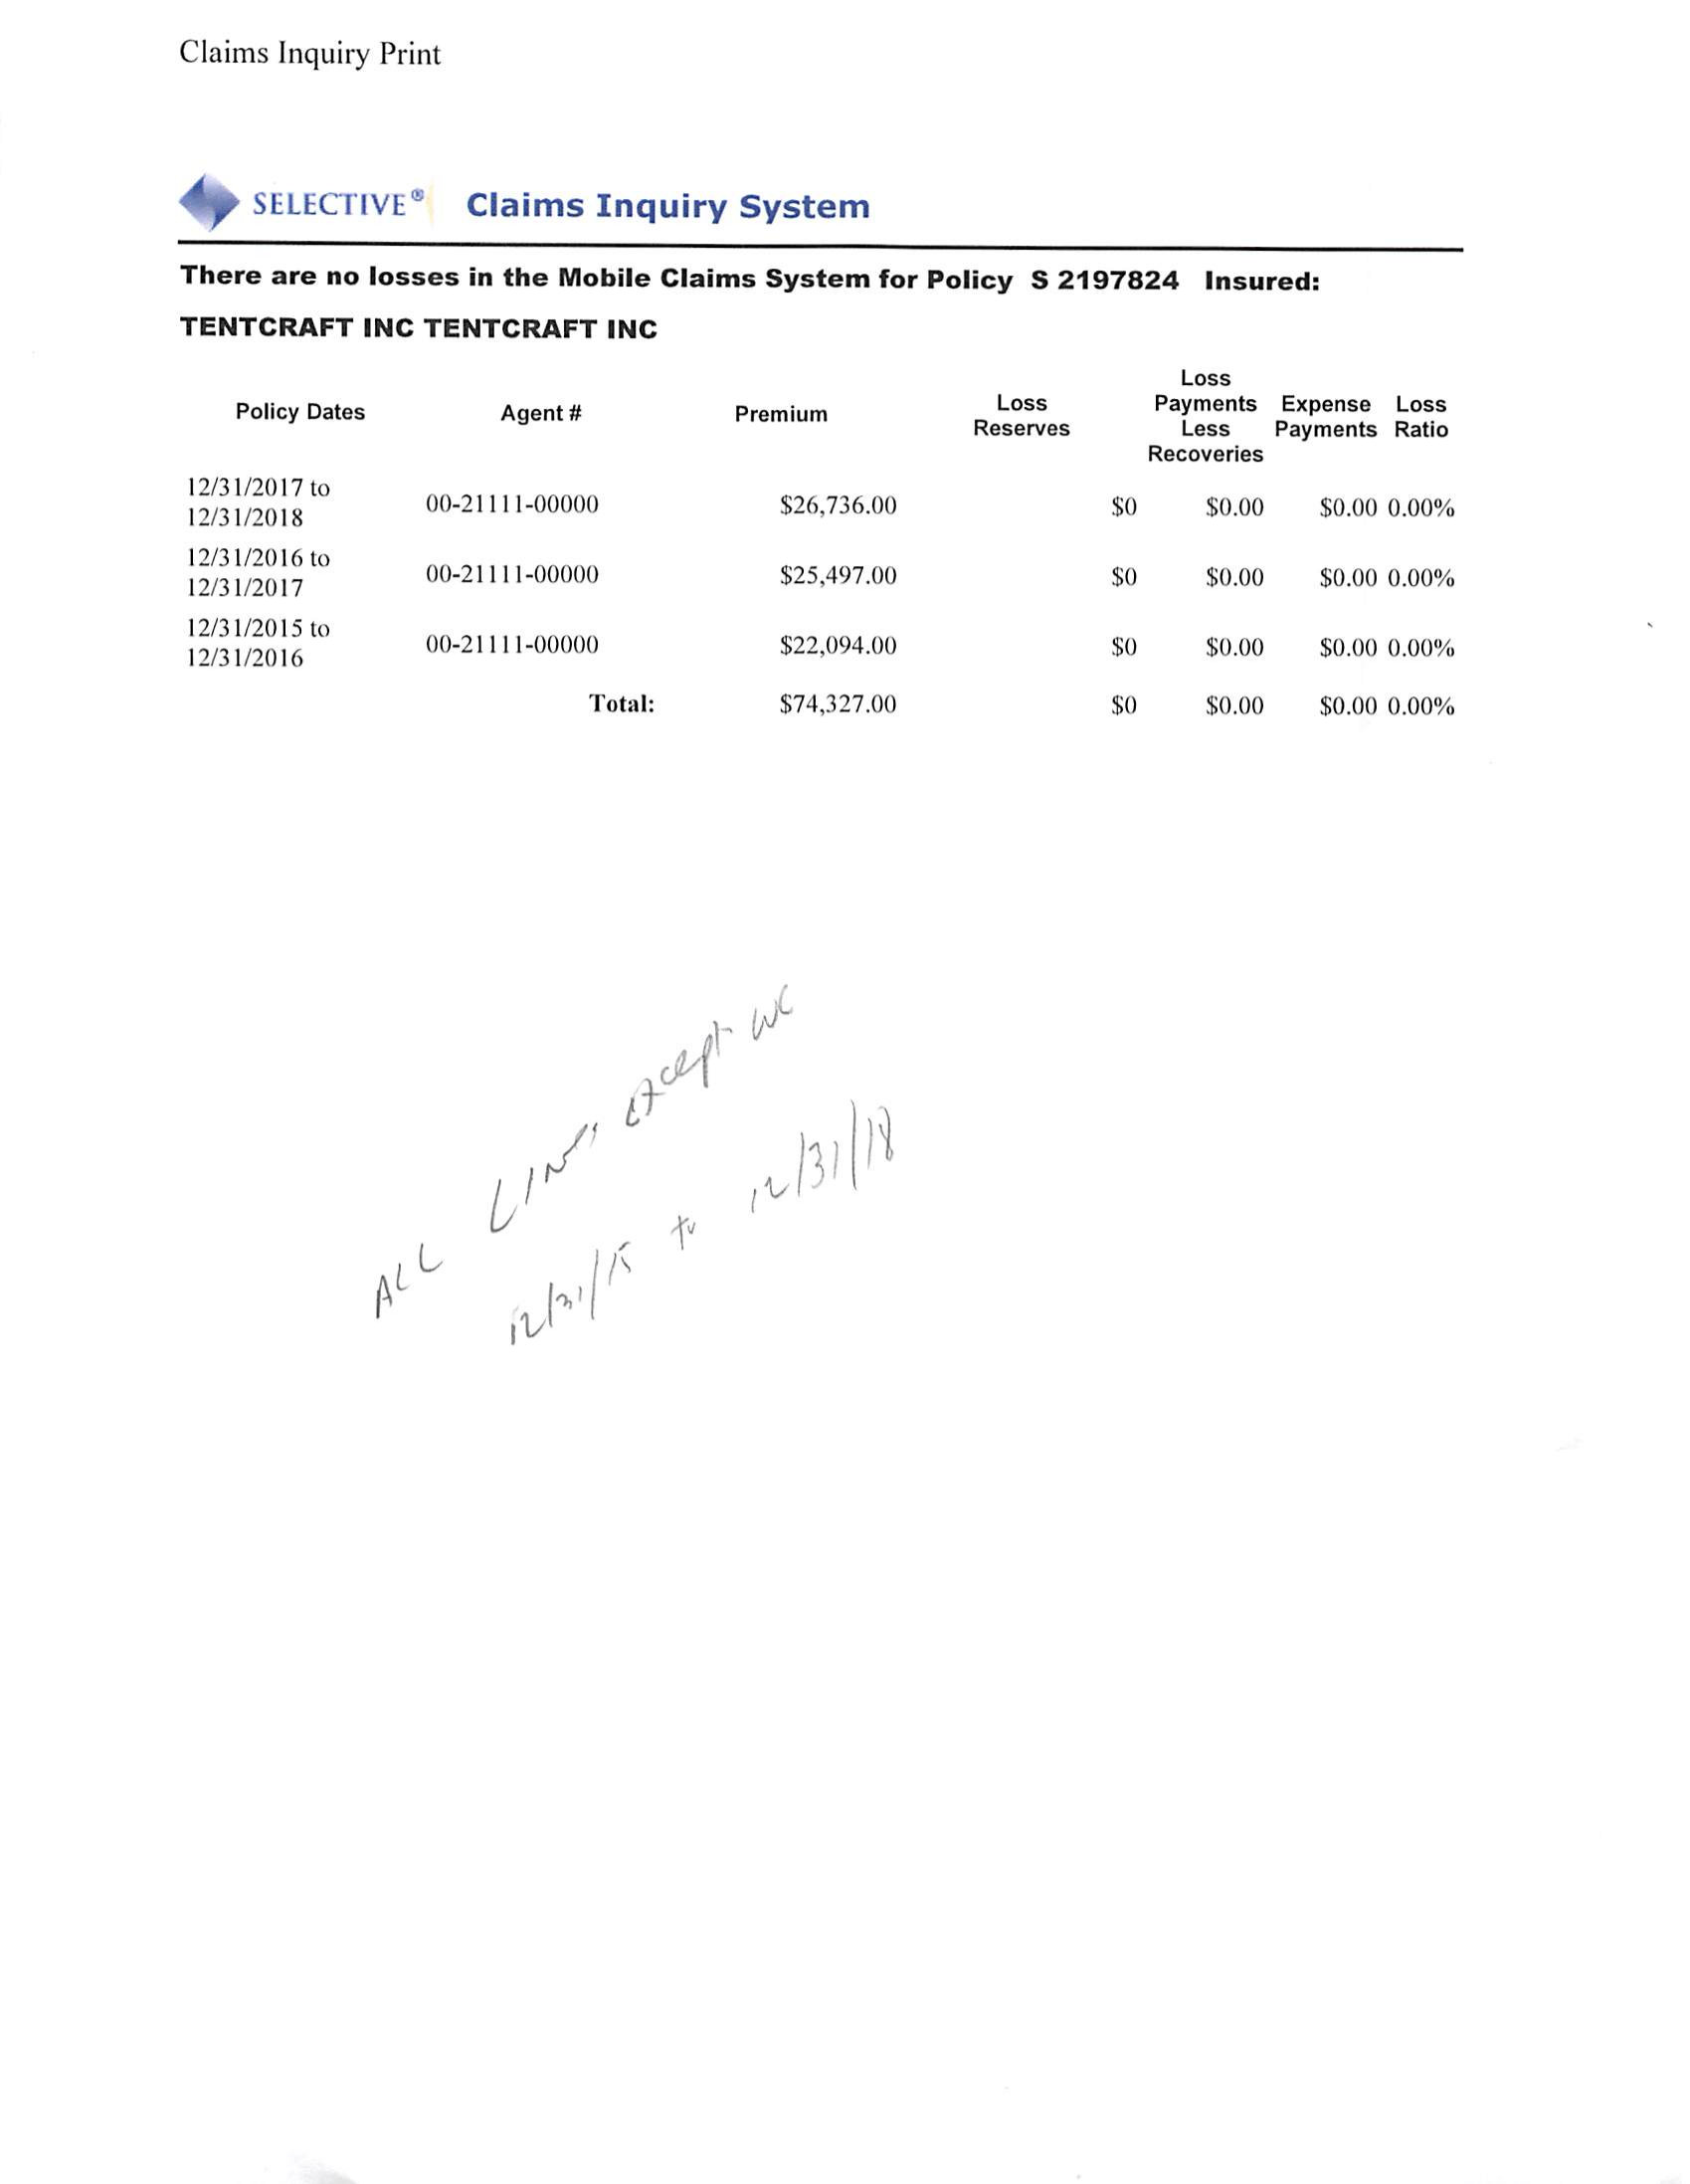No-loss: (124, 239, 1543, 823)
